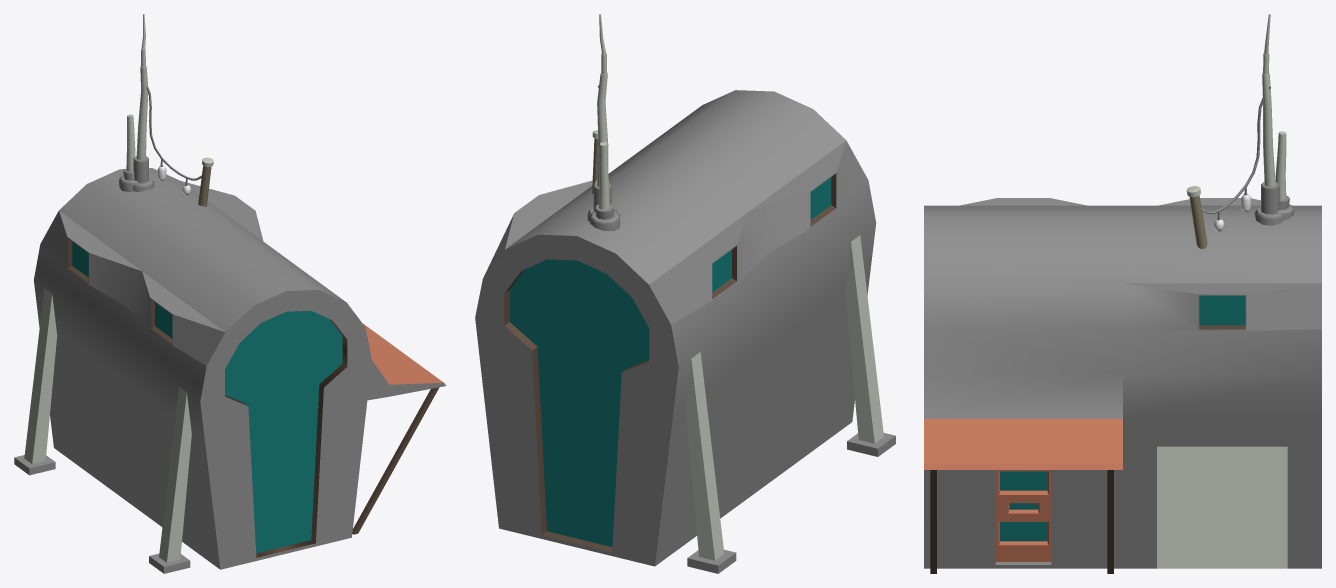
The model's file is SM_caravan_G.fbx.
3 renders of one model, left to right at view 1: azimuth 30°, elevation 25°; view 2: azimuth 150°, elevation 25°; view 3: azimuth 270°, elevation 25°, orthographic. The views are drawn at different scales.
Parts seen in each view (by area): view 1: SM_caravan_G; view 2: SM_caravan_G; view 3: SM_caravan_G.
Boxes of the visible parts, <box> form: SM_caravan_G: <box>14,14,446,573</box>; SM_caravan_G: <box>475,14,895,573</box>; SM_caravan_G: <box>924,14,1321,573</box>.
Bounding box in the file's own units: 811 × 1230 × 857.
